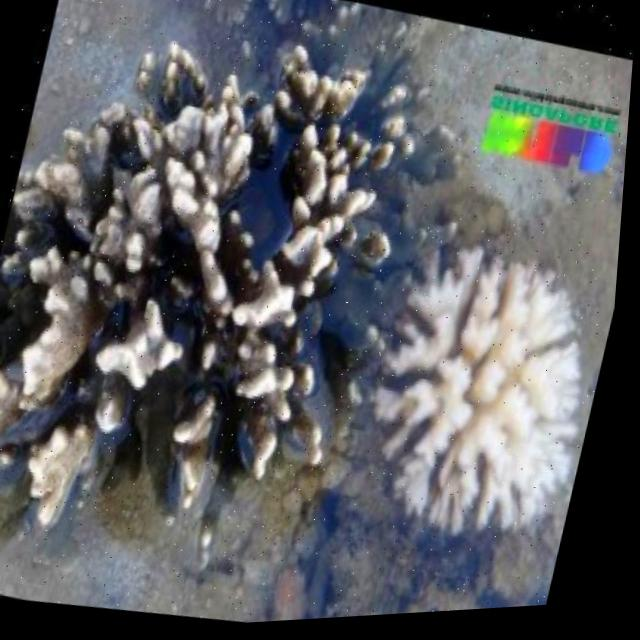Bleached Coral: (314, 223, 625, 584)
Dead Coral: (0, 51, 380, 520)
